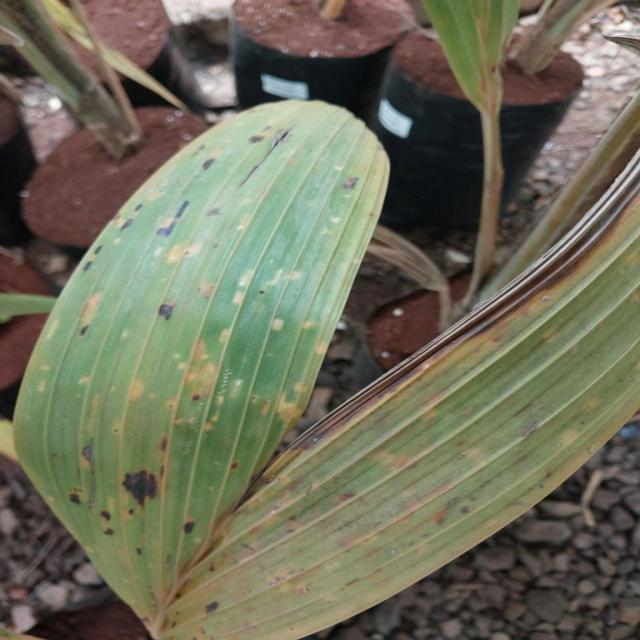gray leaf spot: (12, 102, 640, 640)
